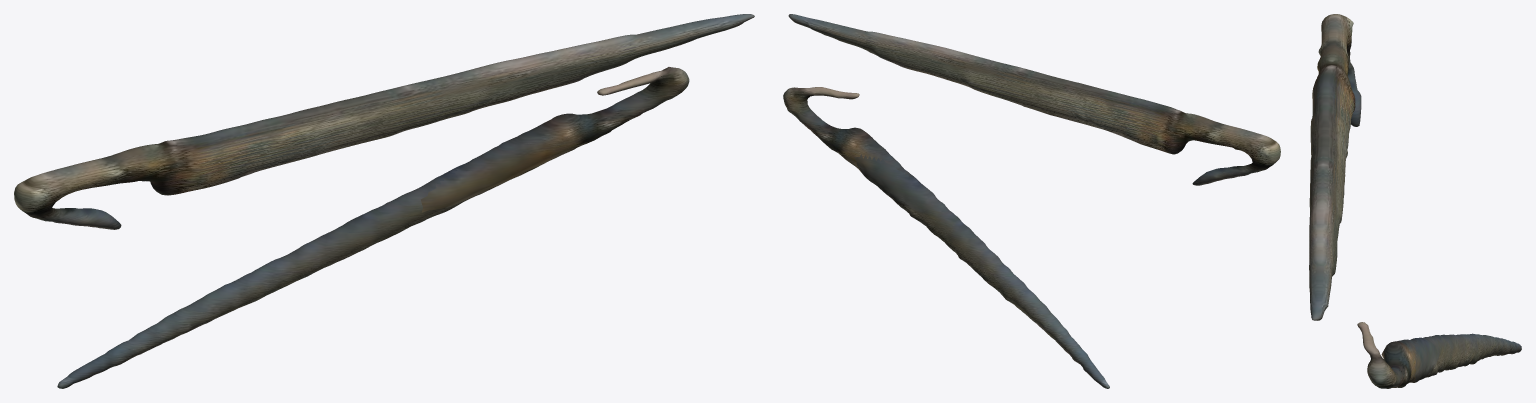
File: kfl-2174.glb
3 renders of one model, left to right at view 1: azimuth 30°, elevation 25°; view 2: azimuth 150°, elevation 25°; view 3: azimuth 270°, elevation 25°, orthographic. The views are drawn at different scales.
Visible parts, largest first — view 1: geometry_0; view 2: geometry_0; view 3: geometry_0.
Boxes of the visible parts, x1,y1,x2,y2 form: geometry_0: (14,14,754,388); geometry_0: (783,14,1280,388); geometry_0: (1309,14,1521,388).
Bounding box in the file's own units: 0.9853 × 0.424 × 0.2838.
1 material, 1 textured.
